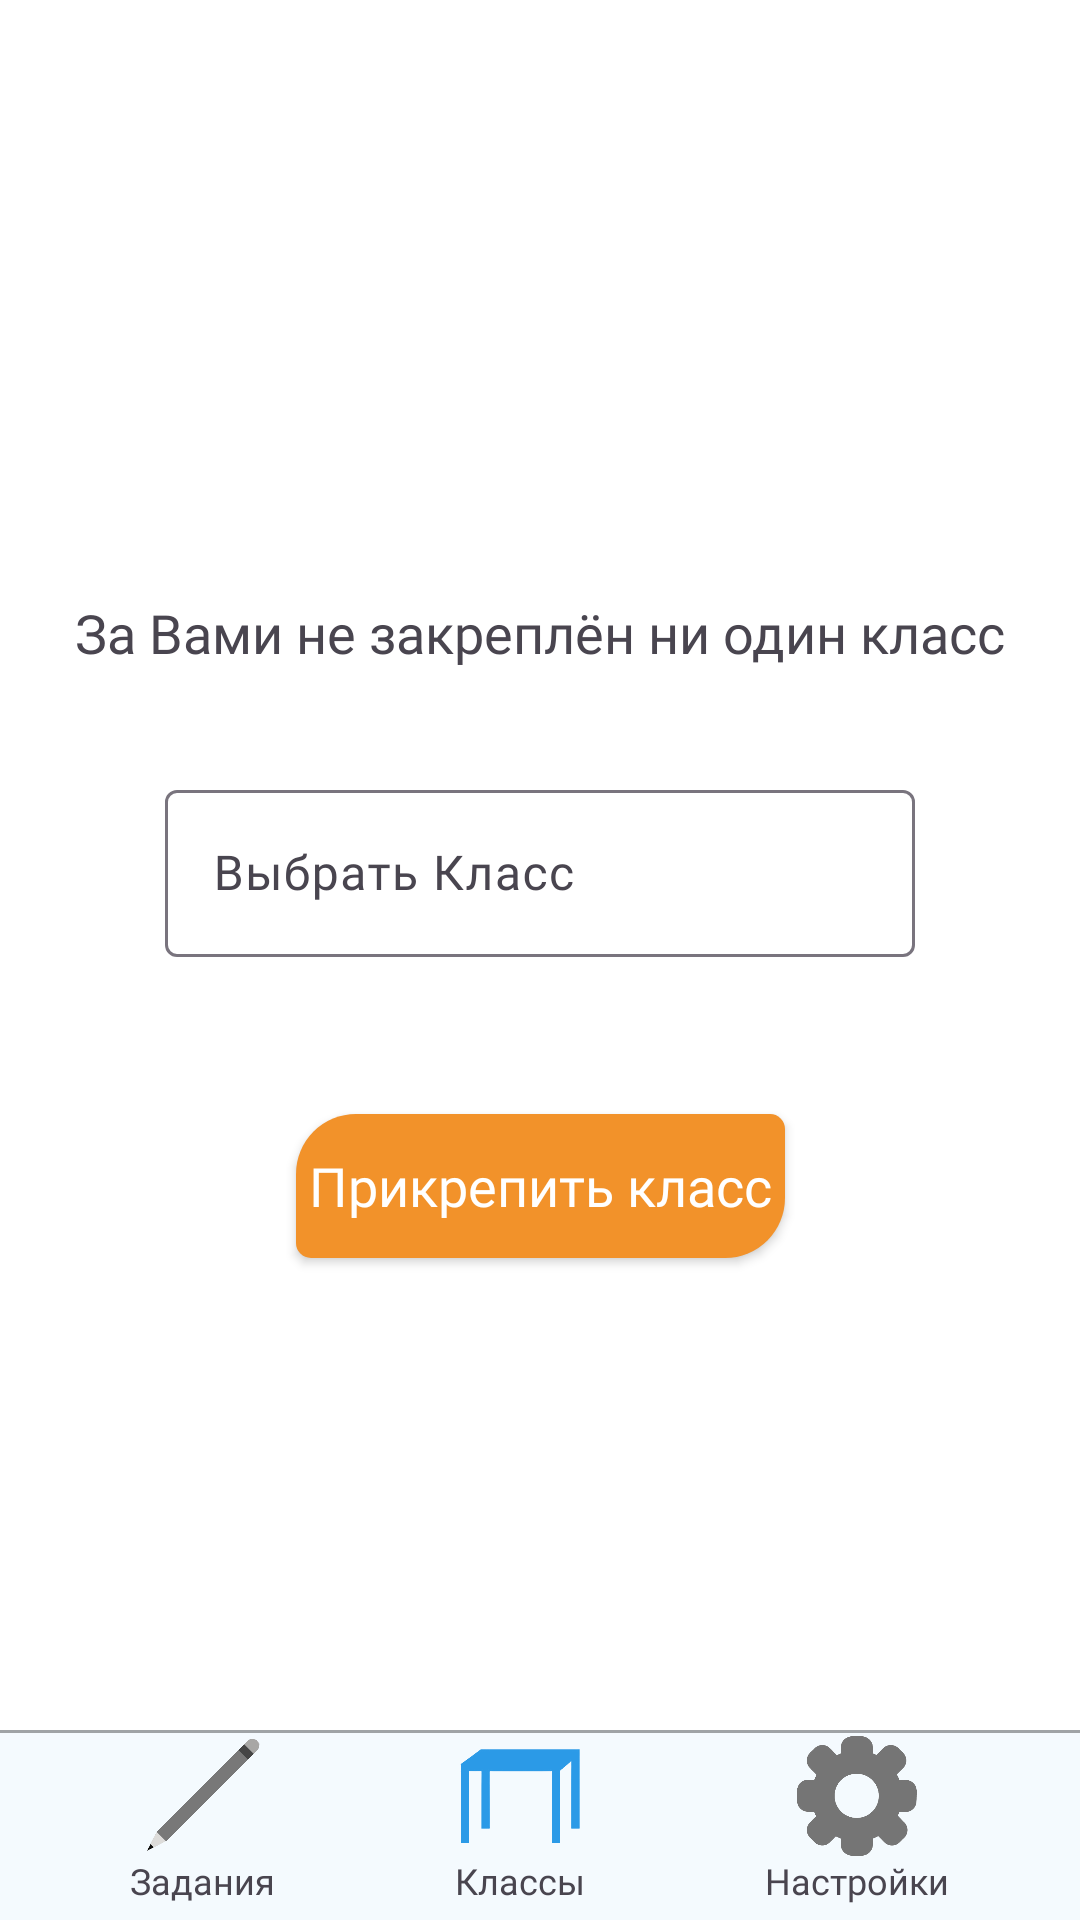

Locate icon controls on the screen. Image size 1080w x 1920h, boxes as [x1,y1,x2,y2].
desk: [460,1749,580,1843]
